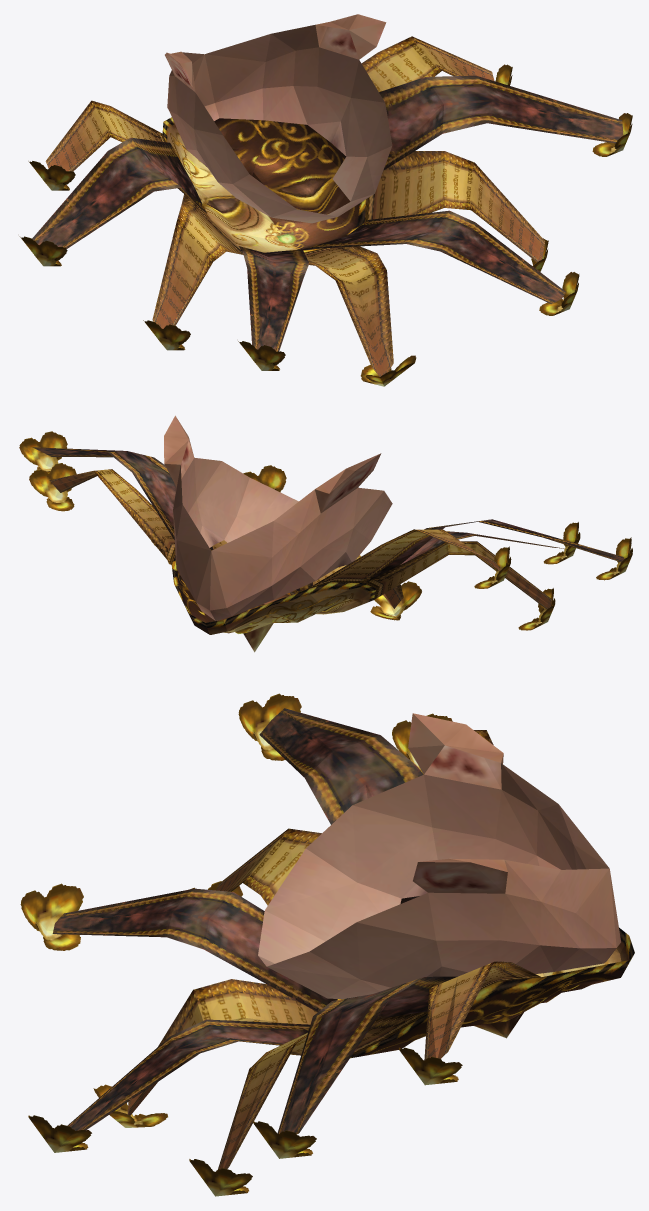
The model's file is common_face_female_2409.obj.
3 renders of one model, top to bottom at view 1: azimuth 30°, elevation 25°; view 2: azimuth 150°, elevation 25°; view 3: azimuth 270°, elevation 25°, orthographic. The views are drawn at different scales.
Parts seen in each view (by area): view 1: common_face_female_2409, common_face_female_2304; view 2: common_face_female_2304, common_face_female_2409; view 3: common_face_female_2409, common_face_female_2304.
Boxes of the visible parts, x1,y1,x2,y2 form: common_face_female_2409: (19,36,632,386); common_face_female_2304: (165,14,392,223); common_face_female_2304: (164,415,392,620); common_face_female_2409: (19,431,632,652); common_face_female_2409: (20,693,634,1196); common_face_female_2304: (258,713,620,999).
Size of the model in its own units: 21.25 by 8.65 by 13.78.
